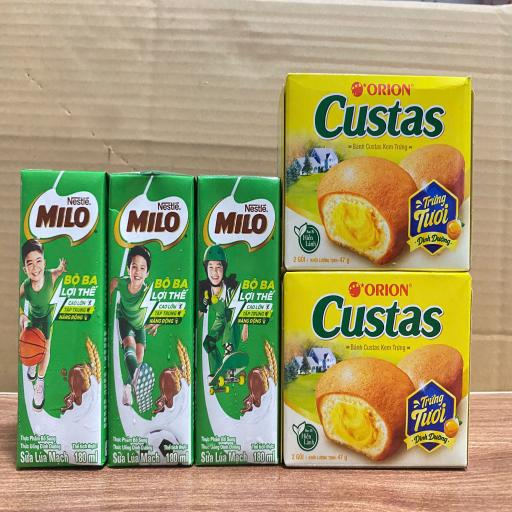custas: (281, 272, 472, 469), (282, 74, 472, 269)
milo: (17, 170, 108, 471), (107, 172, 195, 468), (195, 175, 281, 467)
